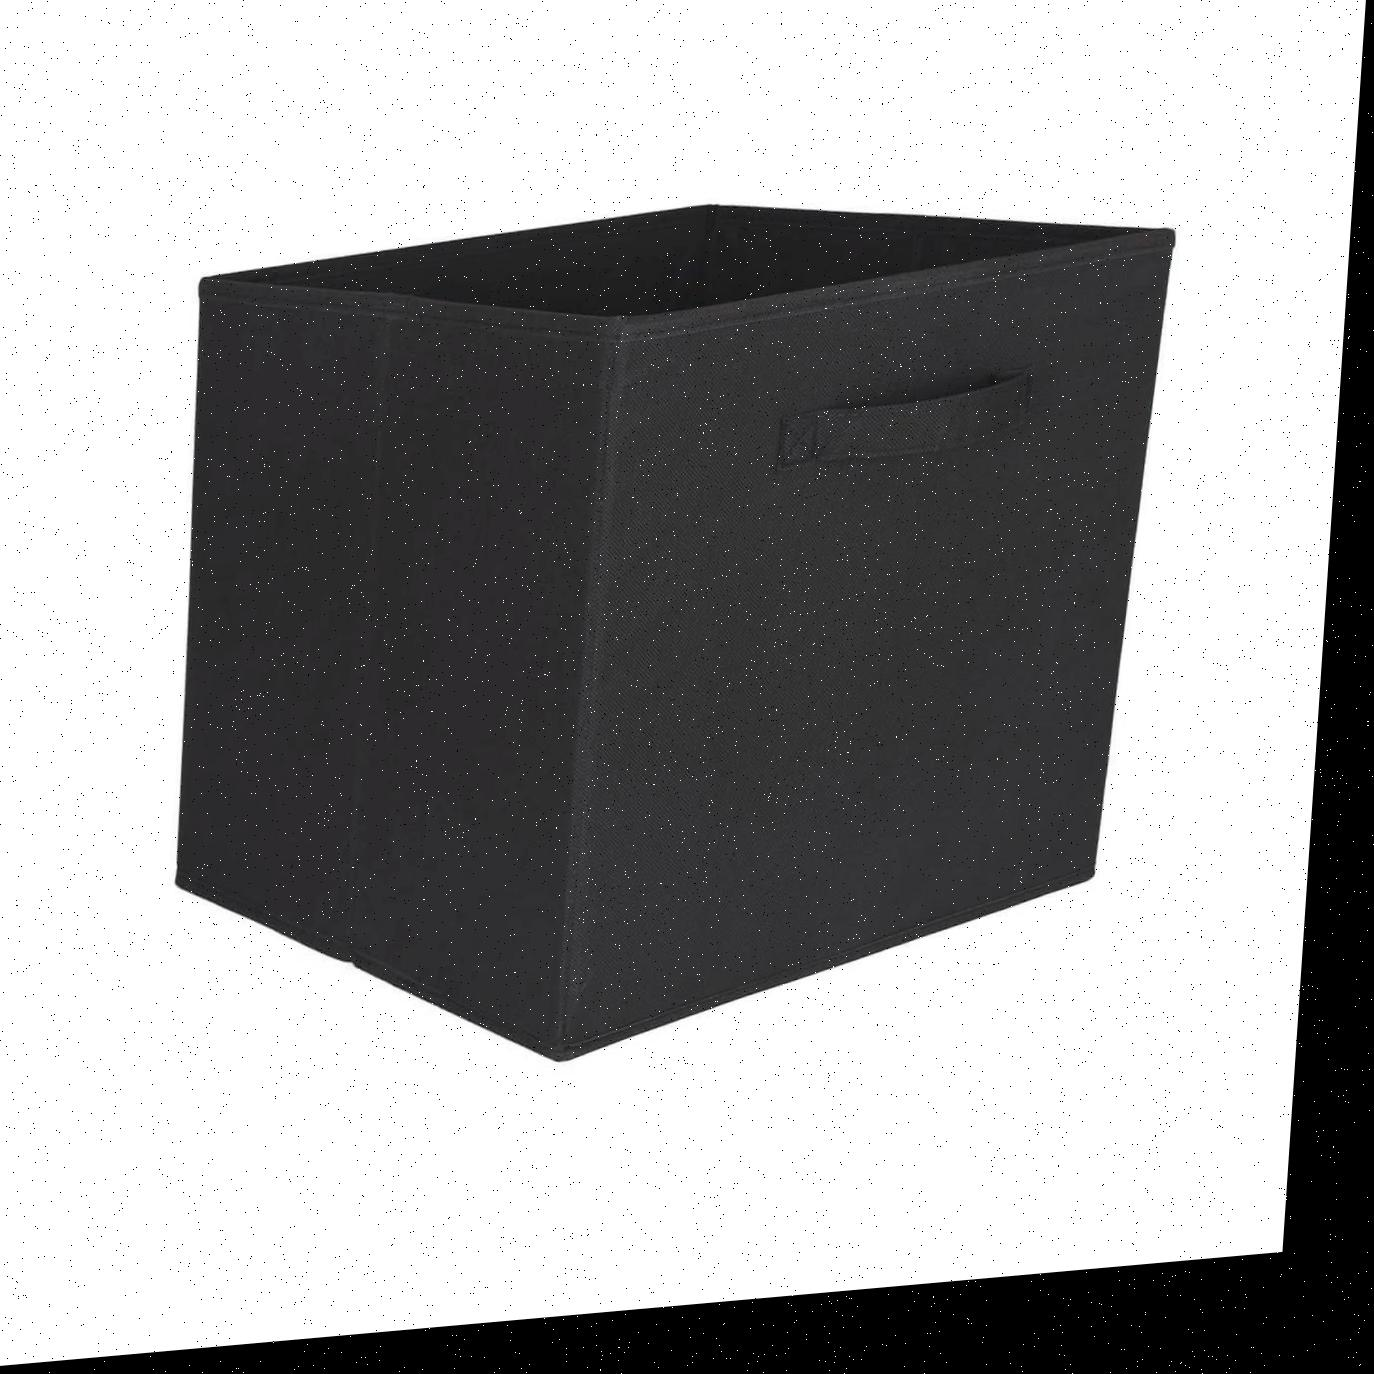cube: (161, 184, 1192, 1098)
